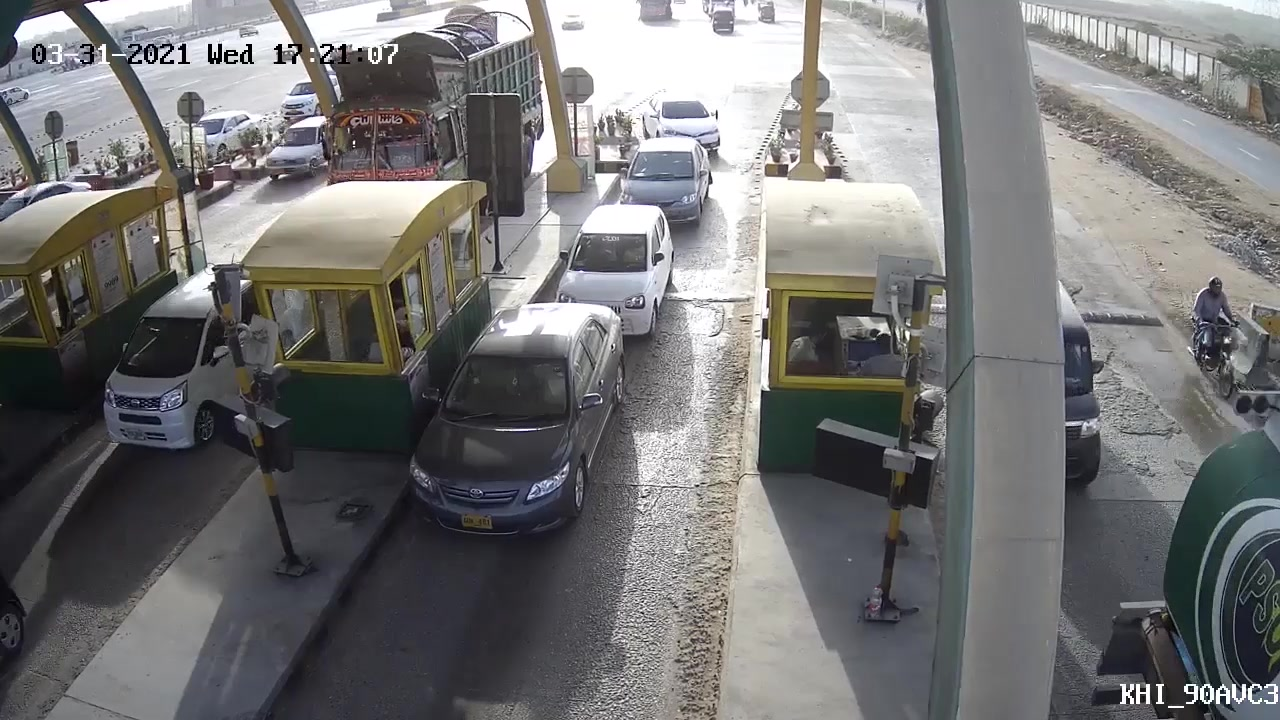F1: (374, 296, 637, 546)
